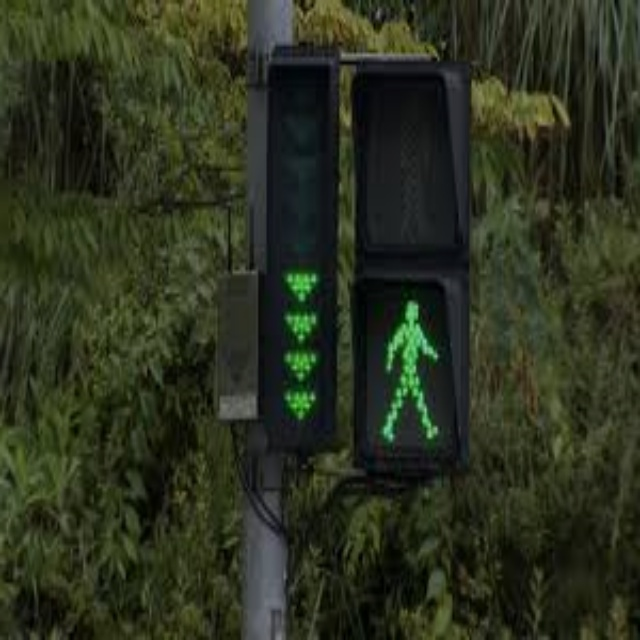green_light: (378, 296, 444, 448), (279, 386, 323, 425), (279, 269, 324, 301), (283, 347, 322, 378), (284, 309, 321, 341)
